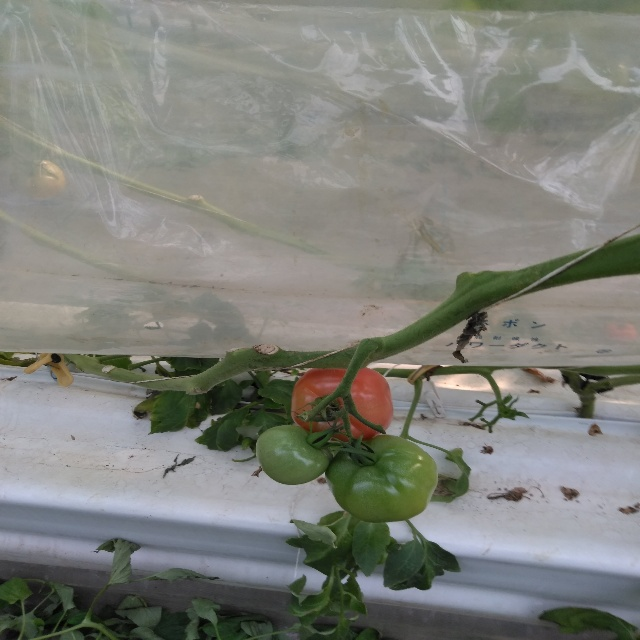b_fully_ripened: (290, 363, 394, 442)
b_green: (325, 434, 438, 523), (255, 425, 334, 485)
